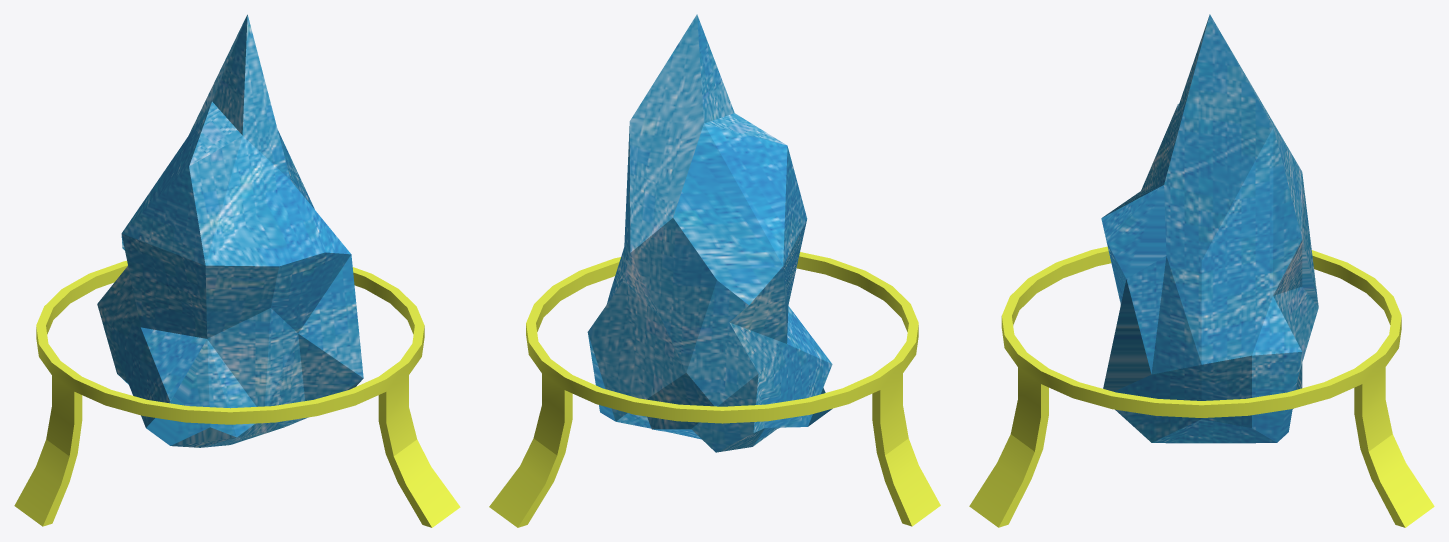
Rendered from crystalFBX.fbx.
3 renders of one model, left to right at view 1: azimuth 30°, elevation 25°; view 2: azimuth 150°, elevation 25°; view 3: azimuth 270°, elevation 25°, orthographic. The views are drawn at different scales.
Parts seen in each view (by area): view 1: pPipe2; view 2: pPipe2; view 3: pPipe2.
Part boxes in pixels (<box>): pPipe2: <box>14,14,460,527</box>; pPipe2: <box>489,14,940,527</box>; pPipe2: <box>969,14,1434,527</box>.
Size of the model in its own units: 8.56 by 9.83 by 9.05.
Materials: 1 (1 with a texture image).
